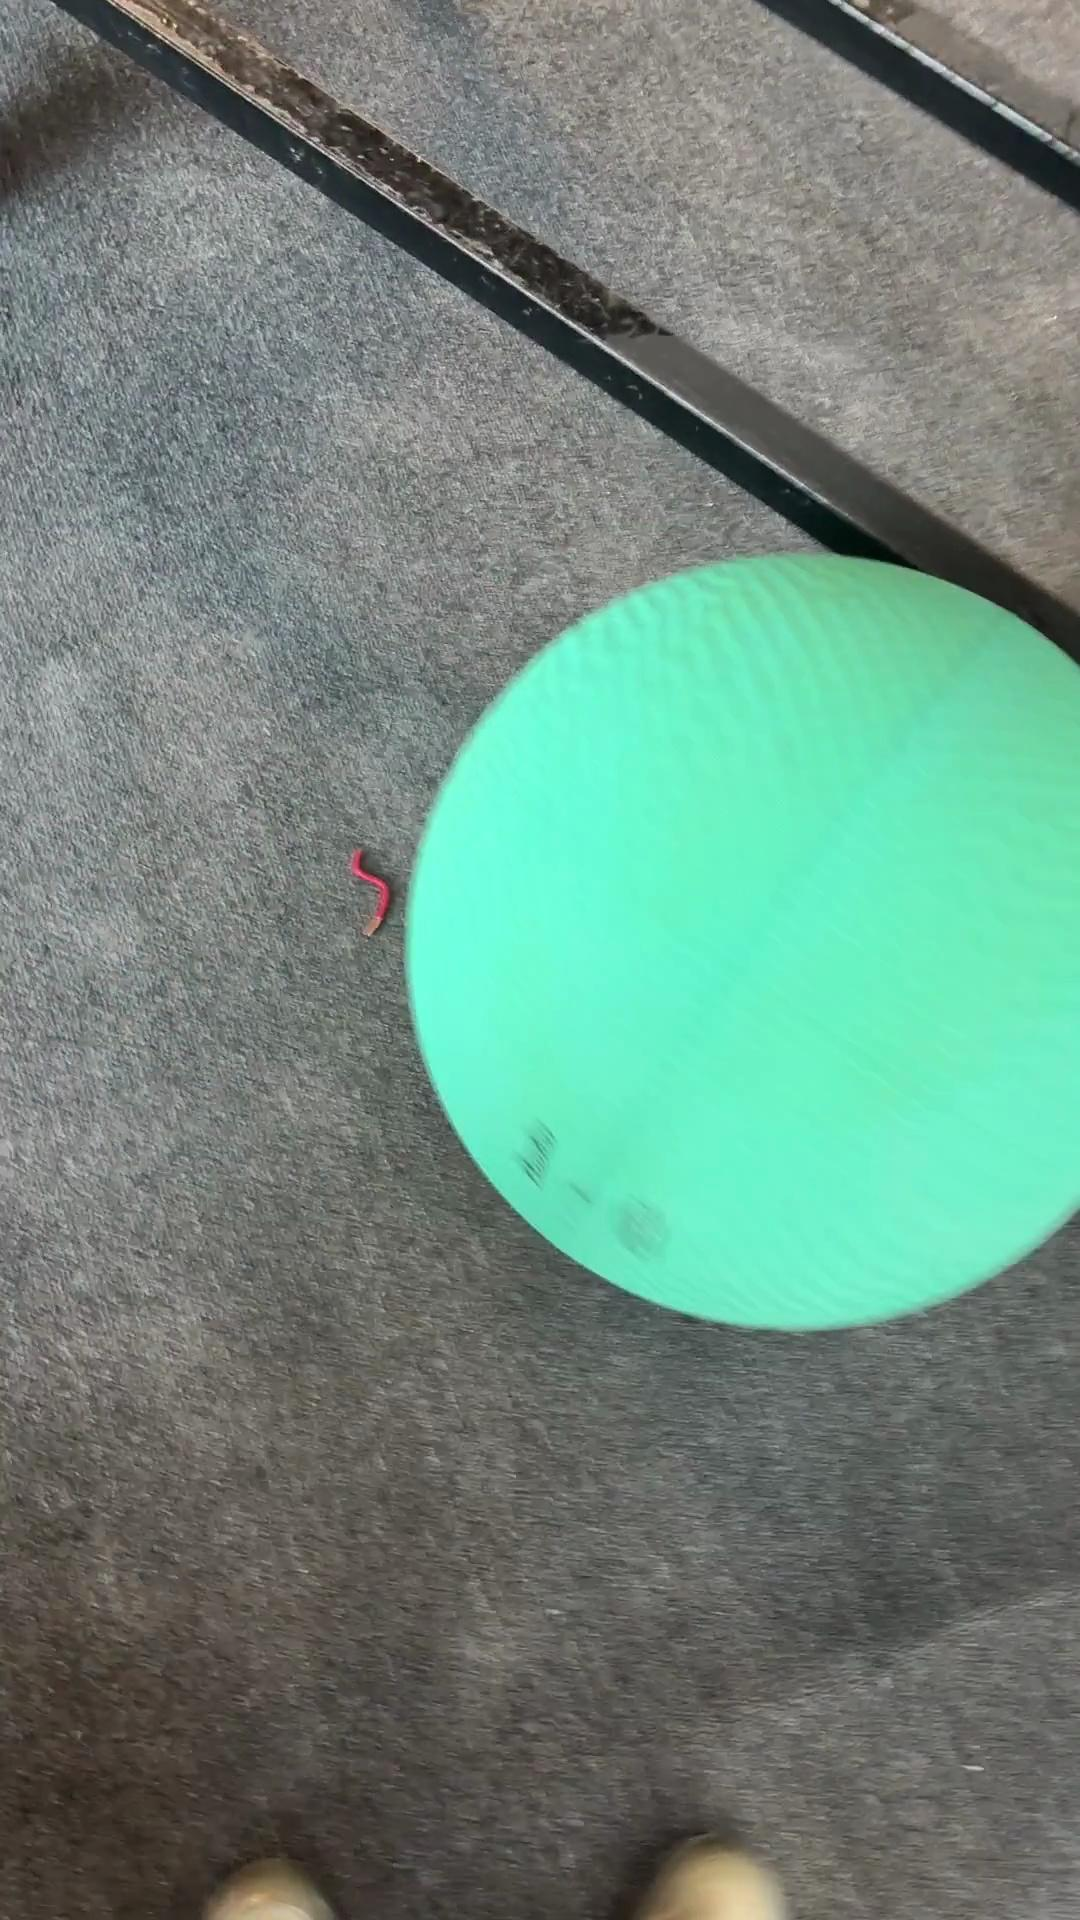ALGAE: (400, 549, 1077, 1335)
